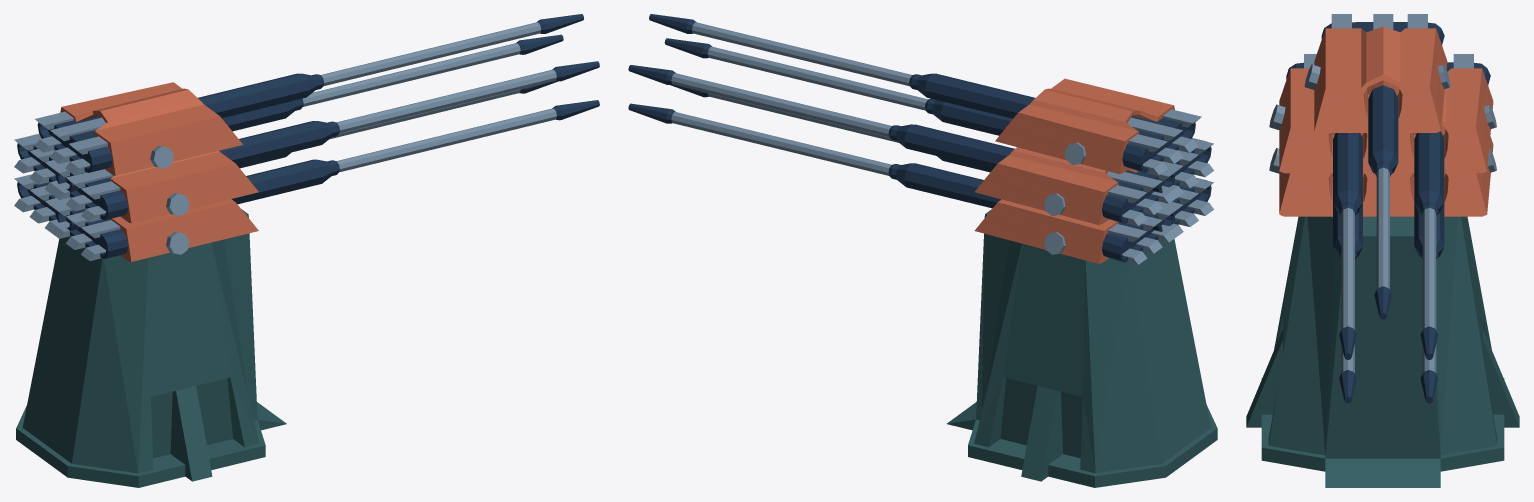
Rendered from Cannon-RRRR-5.fbx.
3 renders of one model, left to right at view 1: azimuth 30°, elevation 25°; view 2: azimuth 150°, elevation 25°; view 3: azimuth 270°, elevation 25°, orthographic. The views are drawn at different scales.
Visible parts, largest first — view 1: russian4:attack, russian4:base; view 2: russian4:attack, russian4:base; view 3: russian4:base, russian4:attack.
Part boxes in pixels (<box>): russian4:attack: <box>14,14,599,261</box>; russian4:base: <box>16,209,286,487</box>; russian4:attack: <box>628,14,1213,264</box>; russian4:base: <box>947,209,1217,487</box>; russian4:base: <box>1246,216,1519,487</box>; russian4:attack: <box>1269,14,1496,403</box>.
Bounding box in the file's own units: 2909 × 1714 × 1137.
